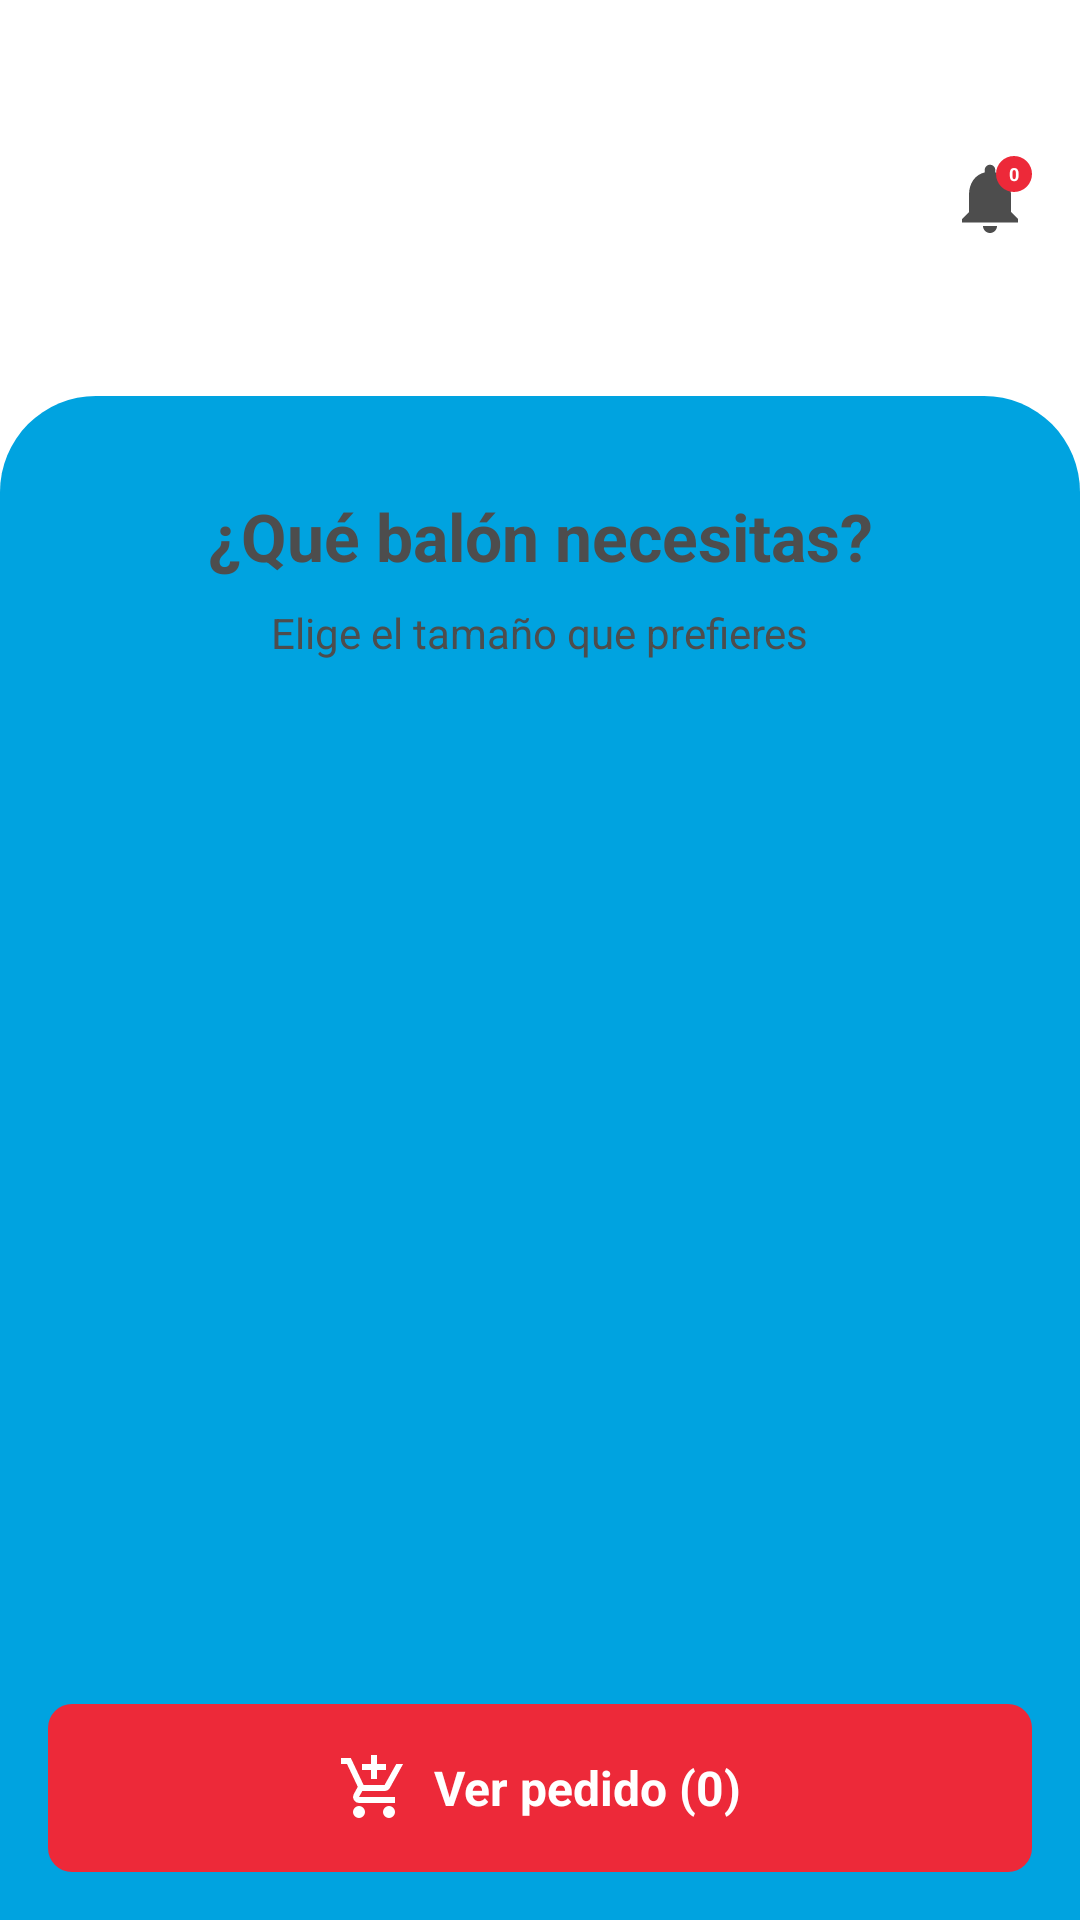

Point at icon controls on the screen. Image size 1080x1920, points as (x=x, y=y).
Icono de carrito de compras: (x=372, y=1786)
Icono de notificaciones: (x=997, y=194)
